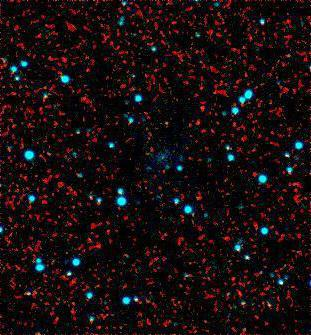star: (179, 198, 209, 228)
